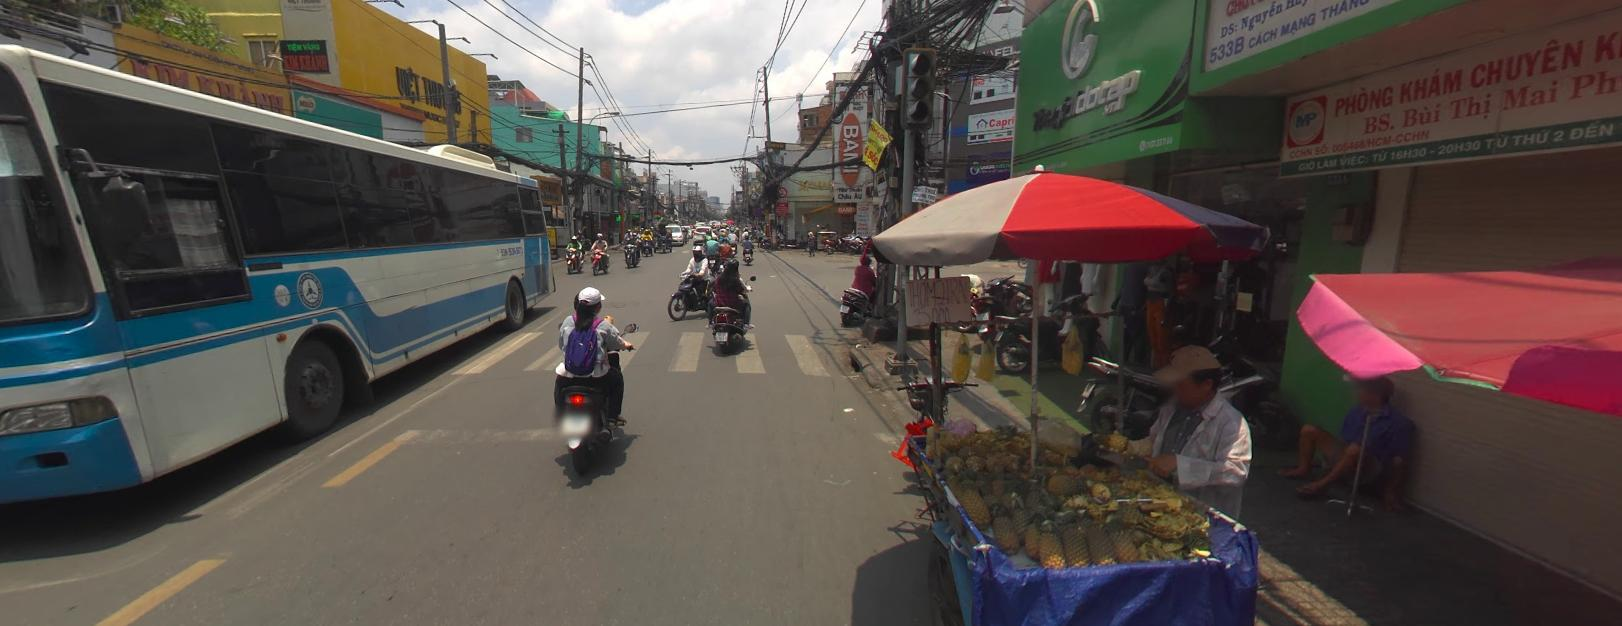Cam con lai: (777, 185, 787, 195)
Cam dung va do: (753, 206, 762, 216)
